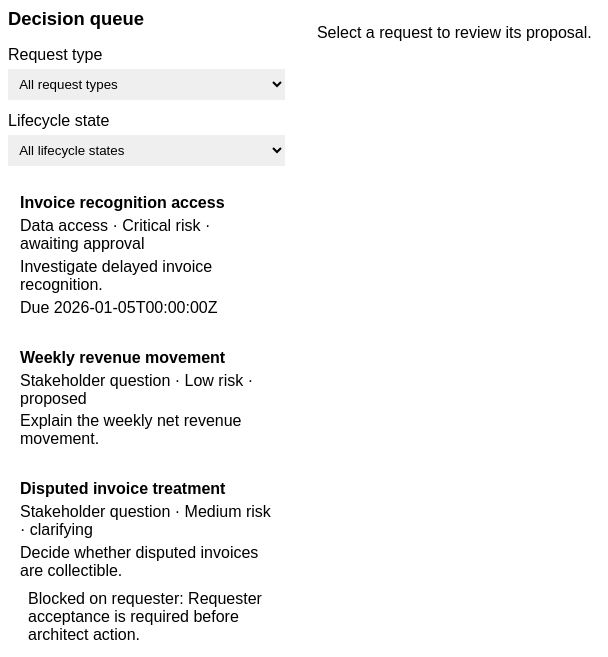
Scenario: request-type and lifecycle-state filters narrow the queue without reordering it
The width and height of the screenshot is (608, 657).
Select "Stakeholder question" in the dropdown labelled "Request type": (146, 84) [8,69,285,100]
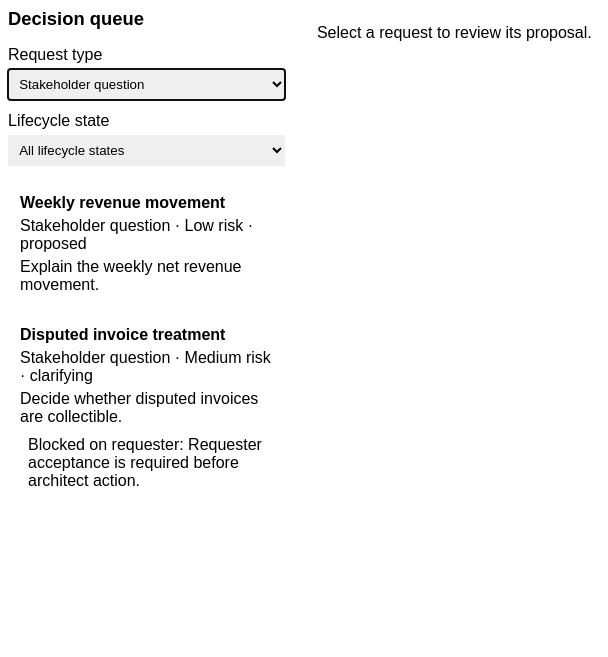
Select "clarifying" in the dropdown labelled "Lifecycle state": (146, 151) [8,135,285,166]
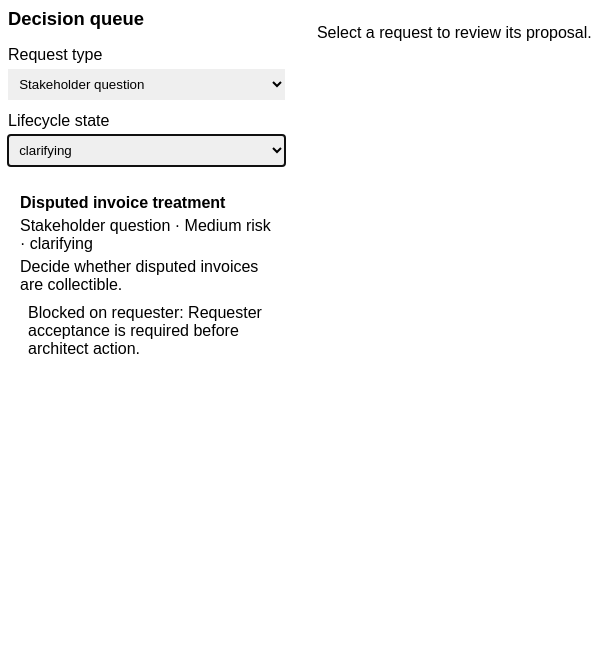
Expected: the option shows "Disputed invoice treatment", [8,182,285,376]
Result: the number of options is 1 at [8,182,285,376]
